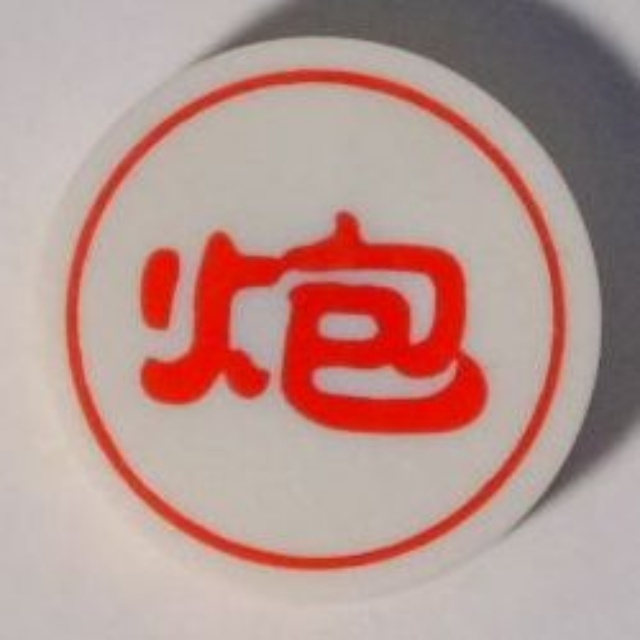red_phao: (14, 28, 617, 587)
